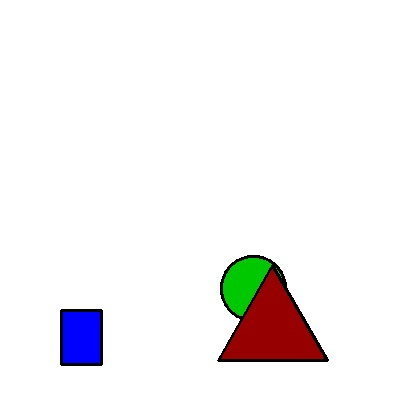circle: (221, 234, 286, 343)
rectangle: (61, 310, 101, 364)
triangle: (218, 265, 327, 360)
